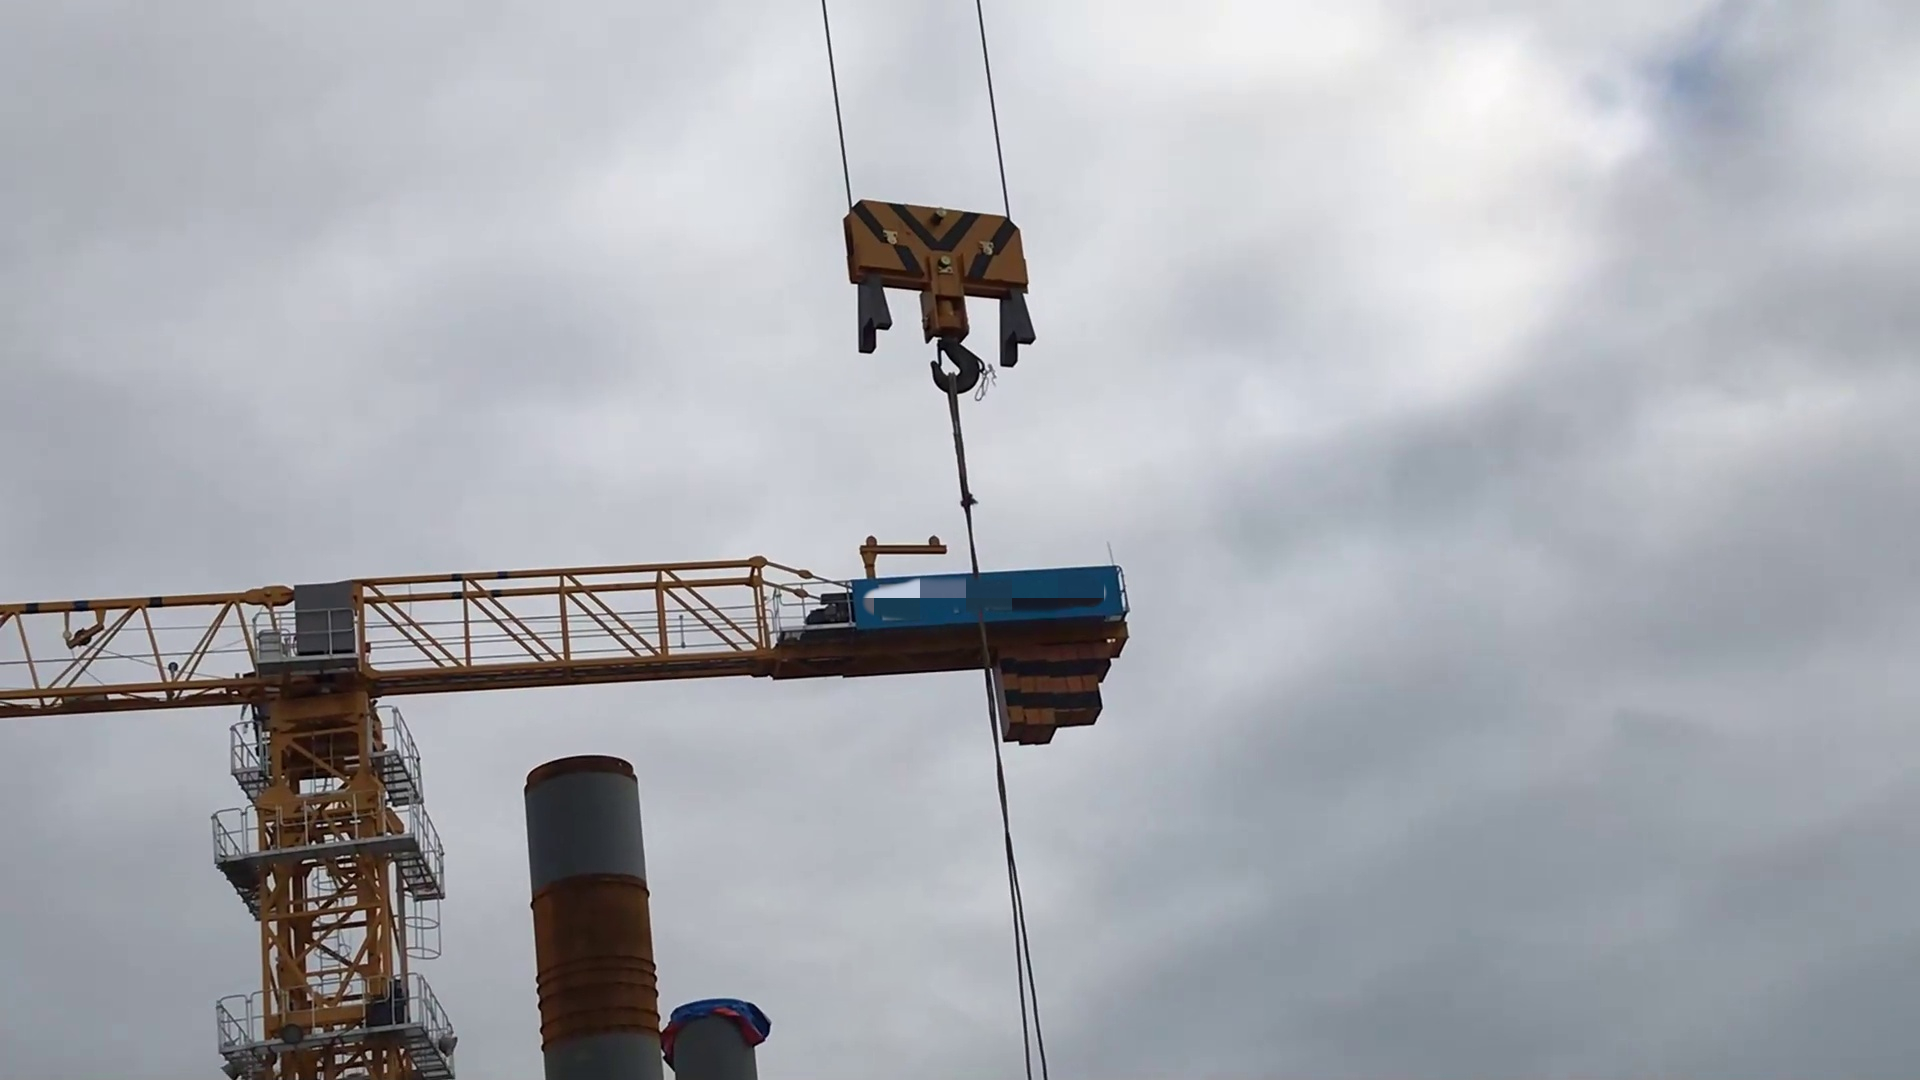hook: (836, 190, 1044, 402)
